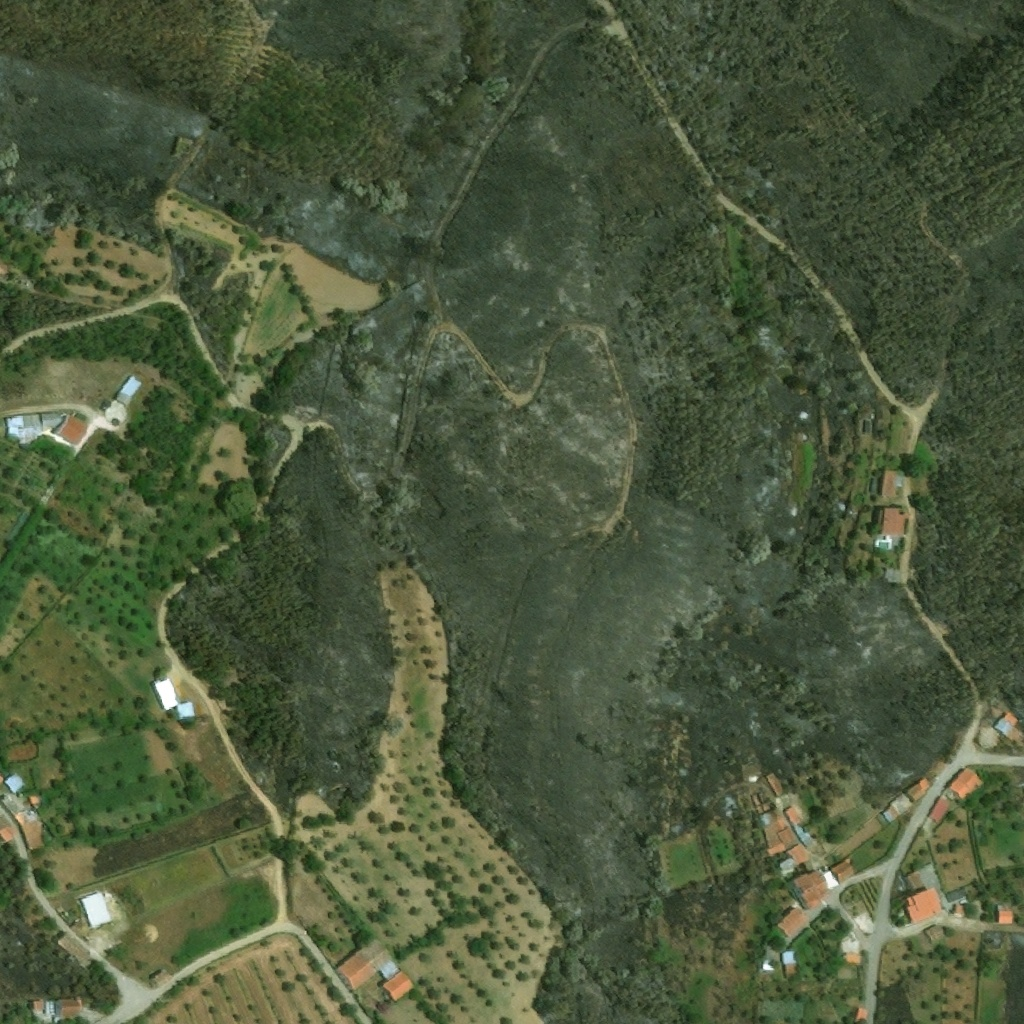0 no-damage: (333, 940, 414, 1001), (4, 409, 87, 446), (0, 794, 45, 852), (150, 674, 193, 719), (787, 870, 832, 912), (784, 806, 822, 855), (872, 508, 905, 552), (904, 888, 942, 923), (57, 929, 92, 966), (778, 844, 811, 877), (824, 858, 856, 891), (993, 708, 1022, 742), (32, 997, 81, 1016), (777, 908, 805, 937), (115, 376, 141, 405), (881, 470, 901, 498), (780, 947, 800, 975), (4, 773, 26, 794), (0, 815, 17, 839), (151, 970, 171, 987), (923, 926, 943, 942), (997, 903, 1012, 924), (906, 871, 922, 890), (843, 953, 862, 963), (28, 794, 42, 807), (855, 1009, 866, 1022), (953, 905, 964, 914), (0, 774, 5, 783)
1 minor-damage: (764, 772, 783, 796)
2 major-damage: (881, 778, 930, 823), (759, 808, 798, 857), (946, 768, 984, 800), (751, 793, 777, 817), (928, 796, 951, 822)
3 destroyed: (883, 569, 902, 584)
